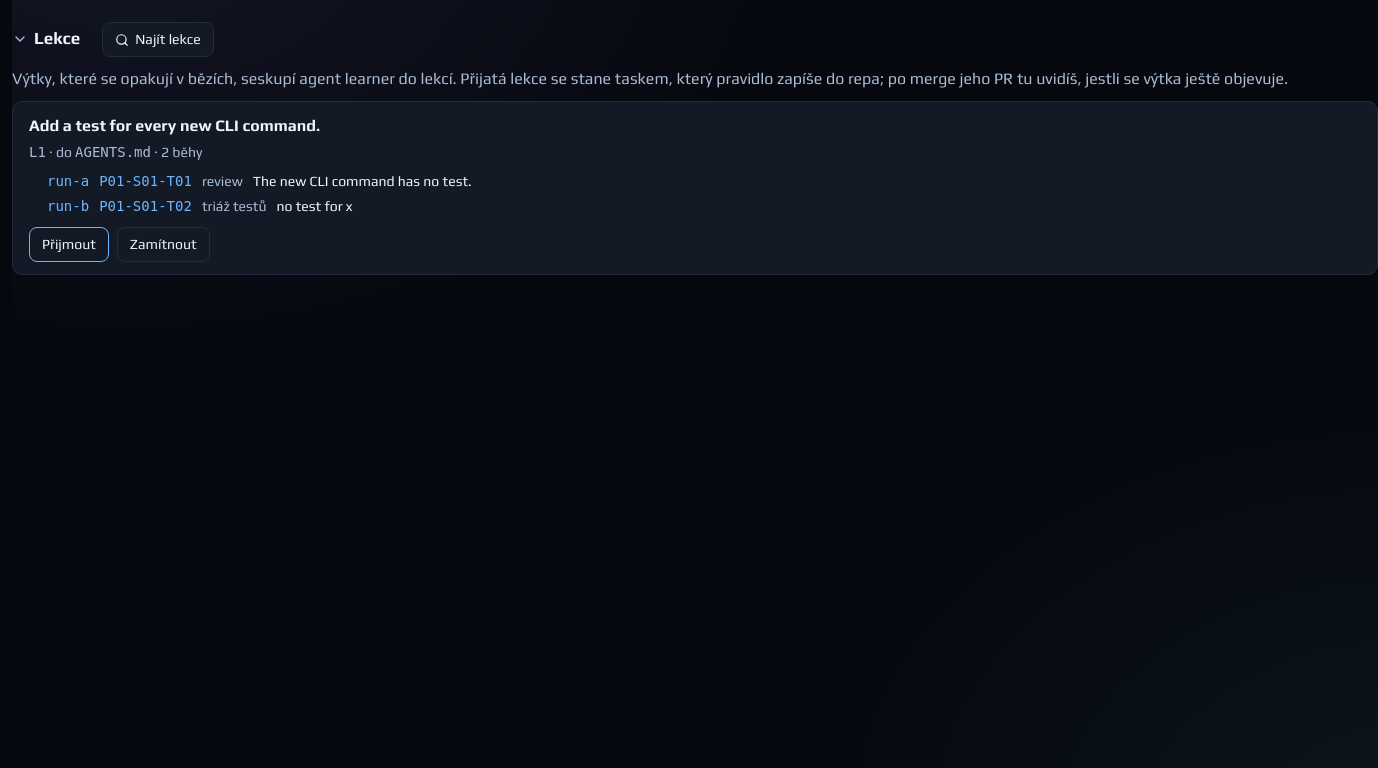
Test: LessonsSection › shows an error of the request
Click the button with test id "lesson-accept". click: [69, 244]
box: [29,227,109,262]
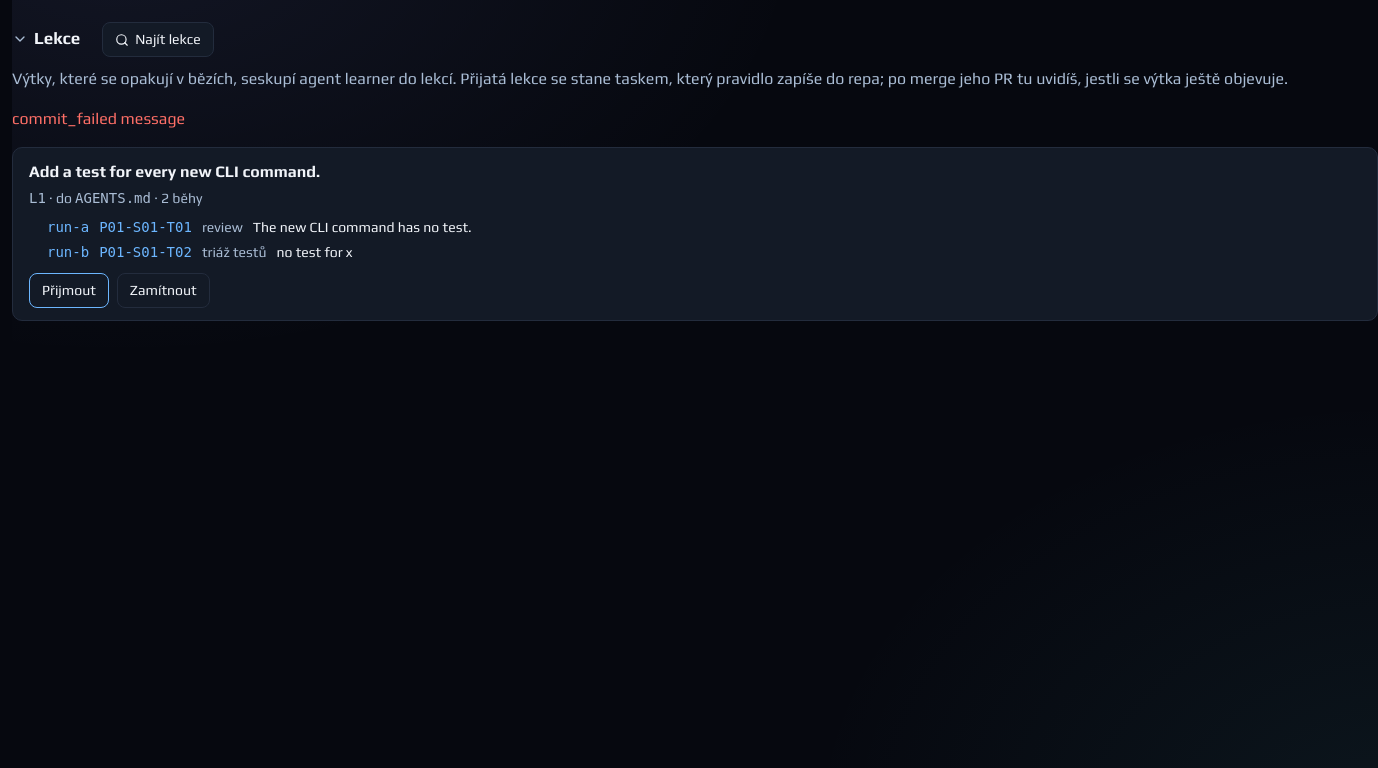
expect the text with test id "lessons-error" reads "commit_failed message": met, box [12,109,185,128]
